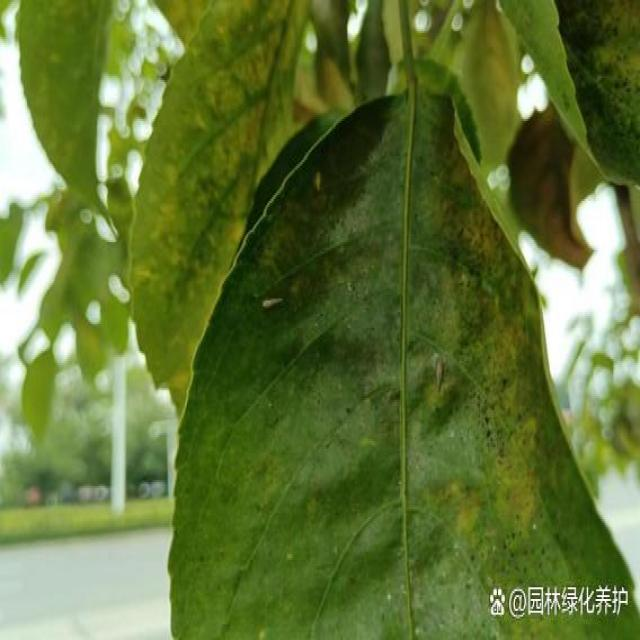Yechan: (259, 288, 284, 312)
